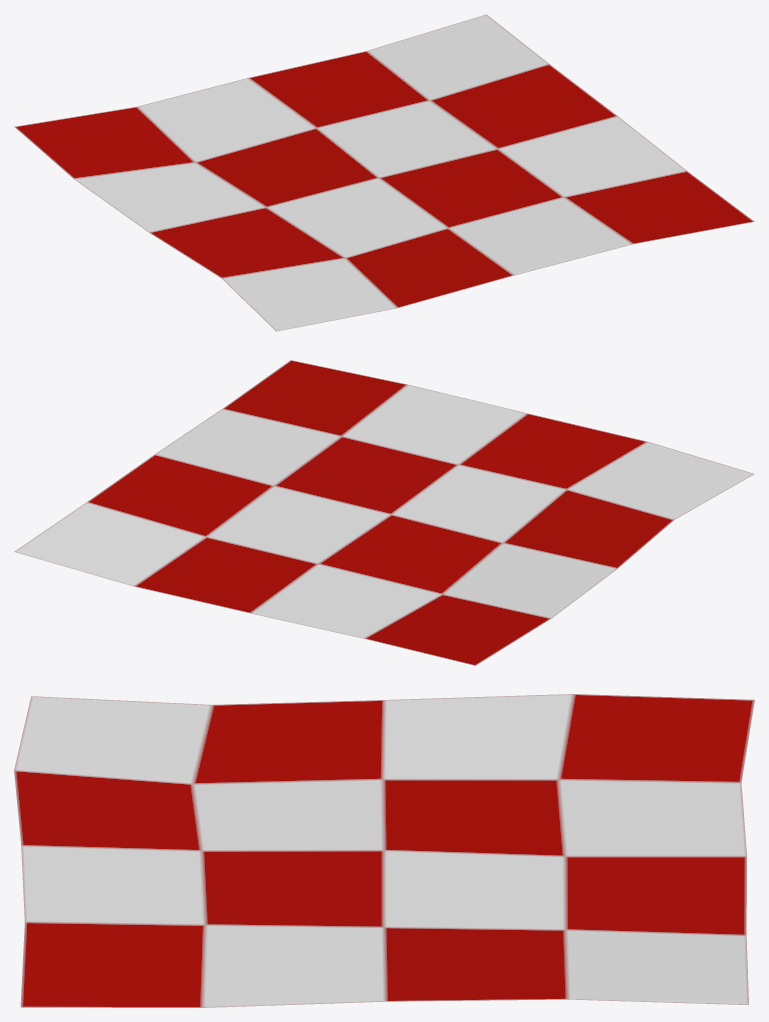
The model's file is picnicCloth.fbx.
The picture shows the model from 3 angles, top to bottom: view 1: azimuth 30°, elevation 25°; view 2: azimuth 150°, elevation 25°; view 3: azimuth 270°, elevation 25°; orthographic projection. The views are drawn at different scales.
Visible parts, largest first — view 1: Plane; view 2: Plane; view 3: Plane.
Part boxes in pixels (x1,y1,x2,y2): Plane: (14,14,754,331); Plane: (14,360,754,665); Plane: (14,694,754,1007).
Size of the model in its own units: 2023 by 35.18 by 2035.
